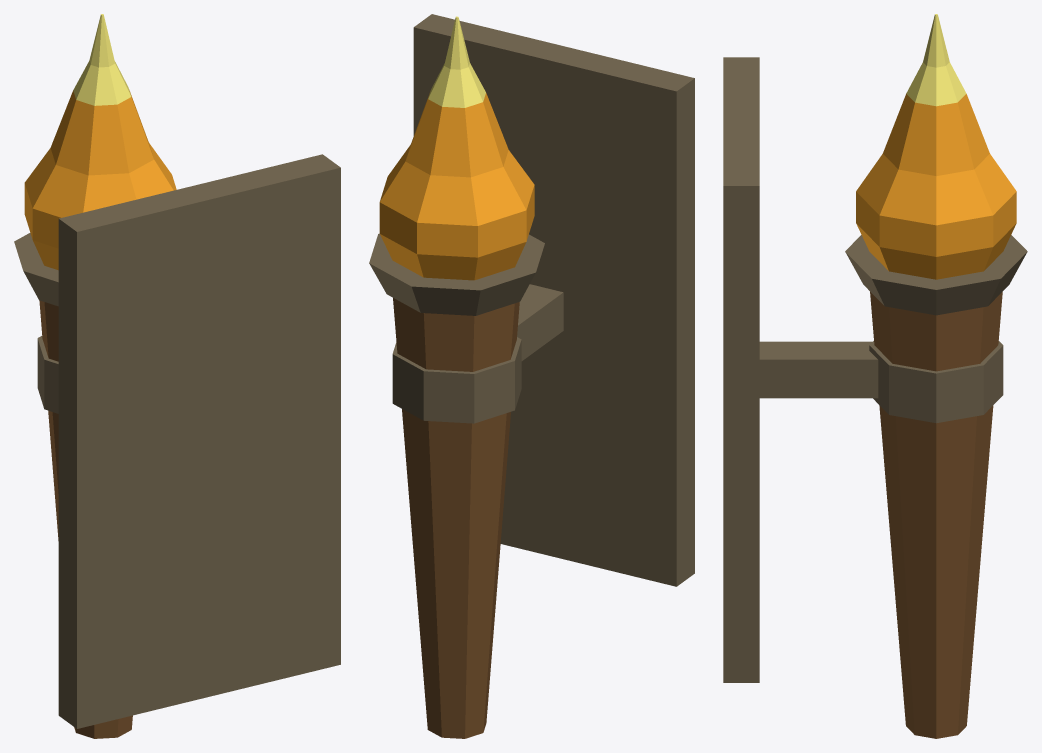
Rendered from Torch_Wall.fbx.
The picture shows the model from 3 angles, left to right: view 1: azimuth 30°, elevation 25°; view 2: azimuth 150°, elevation 25°; view 3: azimuth 270°, elevation 25°; orthographic projection.
Parts seen in each view (by area): view 1: Torch_WallPlate, Torch_FlameBase, Torch_FlameTip, Torch_Handle, Torch_Cup, Torch_Cradle; view 2: Torch_WallPlate, Torch_Handle, Torch_FlameBase, Torch_Cradle, Torch_Cup, Torch_FlameTip, Torch_Arm; view 3: Torch_Handle, Torch_WallPlate, Torch_FlameBase, Torch_Cradle, Torch_Arm, Torch_Cup, Torch_FlameTip.
Part boxes in pixels (box(x1,y1,x2,y2)): Torch_WallPlate: box(58, 154, 340, 728); Torch_FlameBase: box(24, 90, 176, 270); Torch_FlameTip: box(73, 14, 131, 105); Torch_Handle: box(39, 300, 132, 738); Torch_Cup: box(14, 233, 58, 306); Torch_Cradle: box(37, 336, 58, 413); Torch_WallPlate: box(413, 14, 694, 586); Torch_Handle: box(393, 298, 519, 738); Torch_FlameBase: box(379, 93, 534, 280); Torch_Cradle: box(392, 337, 521, 423); Torch_Cup: box(369, 233, 544, 315); Torch_FlameTip: box(428, 16, 485, 107); Torch_Arm: box(517, 284, 563, 360); Torch_Handle: box(870, 292, 1002, 738); Torch_WallPlate: box(723, 57, 759, 682); Torch_FlameBase: box(856, 93, 1016, 279); Torch_Cradle: box(869, 341, 1003, 423); Torch_Arm: box(759, 341, 878, 398); Torch_Cup: box(845, 235, 1027, 315); Torch_FlameTip: box(906, 14, 966, 106).
Size of the model in its own units: 100 by 258 by 100.
